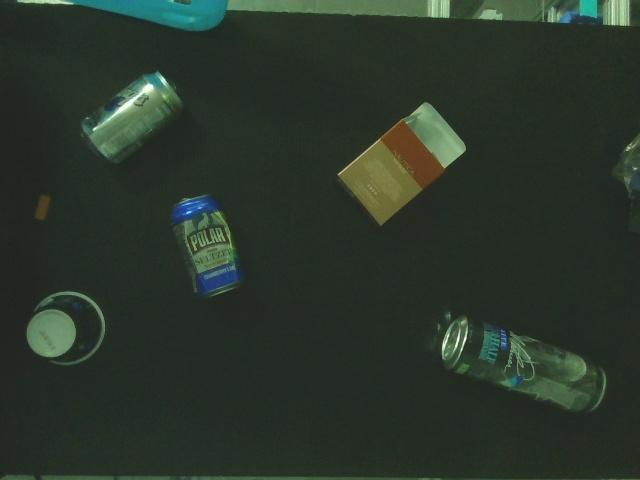cardboard: (334, 97, 467, 228)
metal: (437, 314, 609, 420), (78, 67, 188, 171), (167, 187, 249, 306)
plastic: (25, 289, 106, 373), (613, 124, 640, 235), (31, 193, 55, 222)
